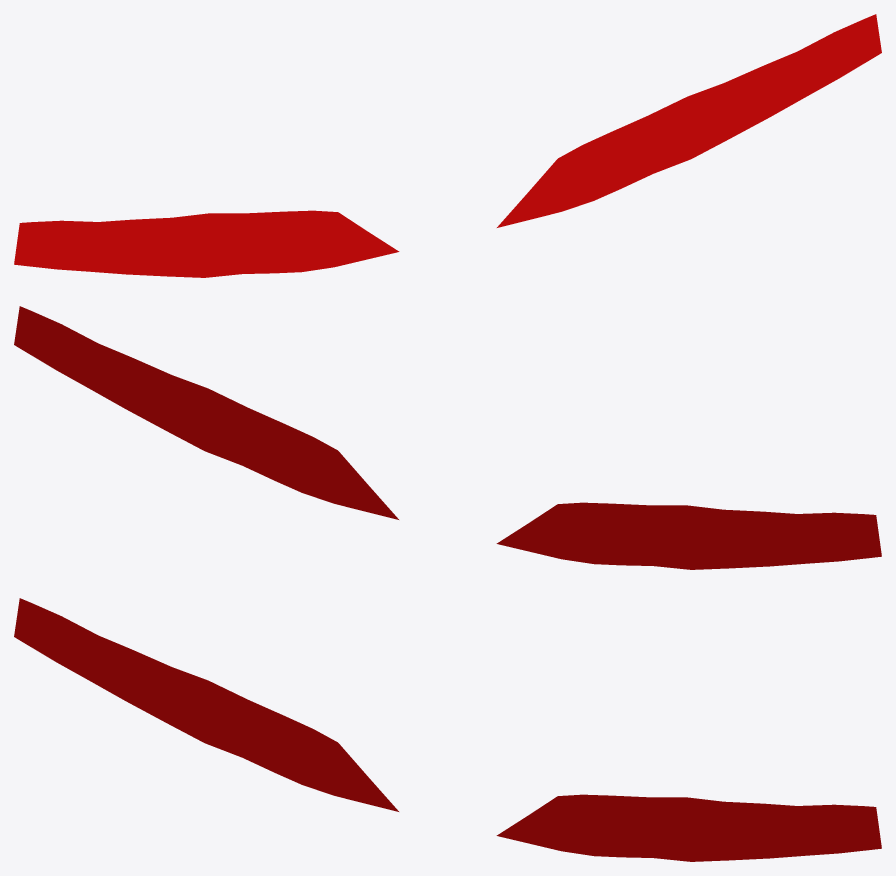
The model's file is frame41.fbx.
3 views of the same model, one above another, from view 1: azimuth 30°, elevation 25°; view 2: azimuth 150°, elevation 25°; view 3: azimuth 330°, elevation 25° (orthographic).
Visible parts, largest first — view 1: MaterialLayer; view 2: MaterialLayer; view 3: MaterialLayer.
Part boxes in pixels (x1,y1,x2,y2): MaterialLayer: (14, 14, 881, 277); MaterialLayer: (14, 306, 881, 569); MaterialLayer: (14, 598, 881, 861).
Bounding box in the file's own units: 1192 × 160 × 0.
